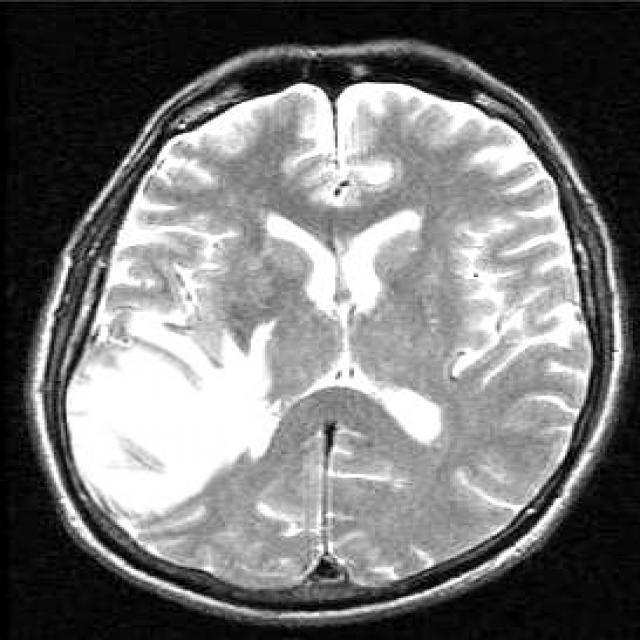Tumor: (68, 337, 229, 510)
